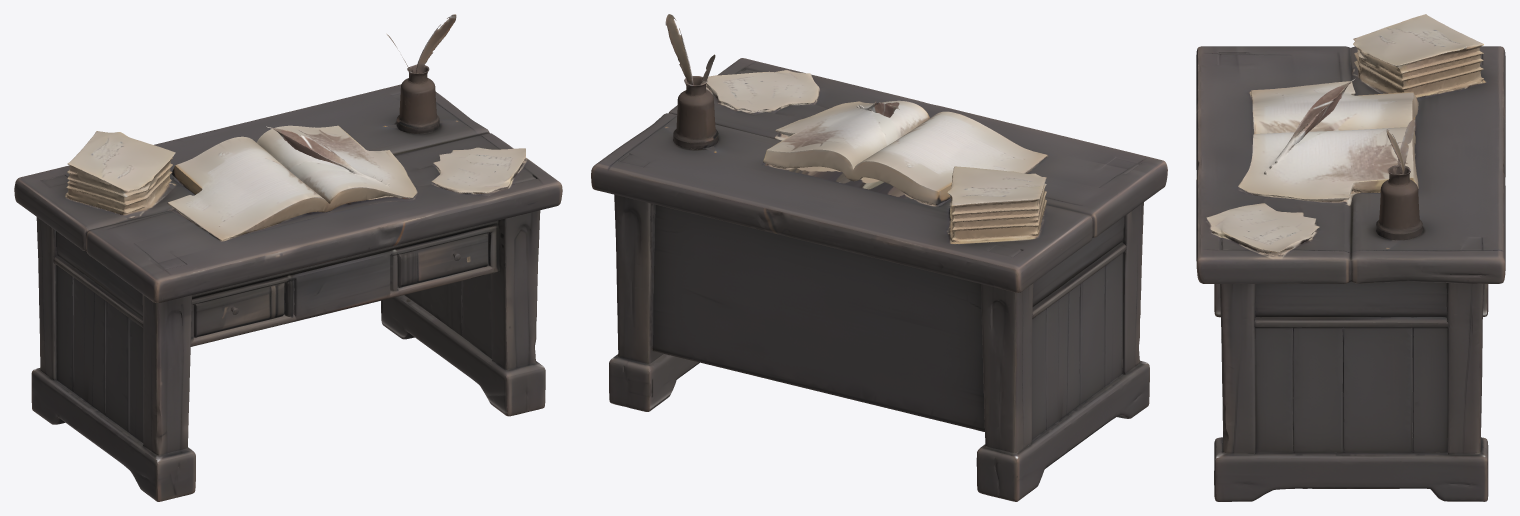
Rendered from base_basic_pbr.fbx.
3 views of the same model, side by side, from view 1: azimuth 30°, elevation 25°; view 2: azimuth 150°, elevation 25°; view 3: azimuth 270°, elevation 25° (orthographic). The views are drawn at different scales.
Visible parts, largest first — view 1: model; view 2: model; view 3: model.
Part boxes in pixels (x1,y1,x2,y2): model: (14, 14, 562, 501); model: (591, 14, 1167, 501); model: (1196, 14, 1505, 501).
Bounding box in the file's own units: 190 × 151 × 115.
Materials: 1 (1 with a texture image).
